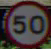Speed limit: (5, 0, 47, 43)
